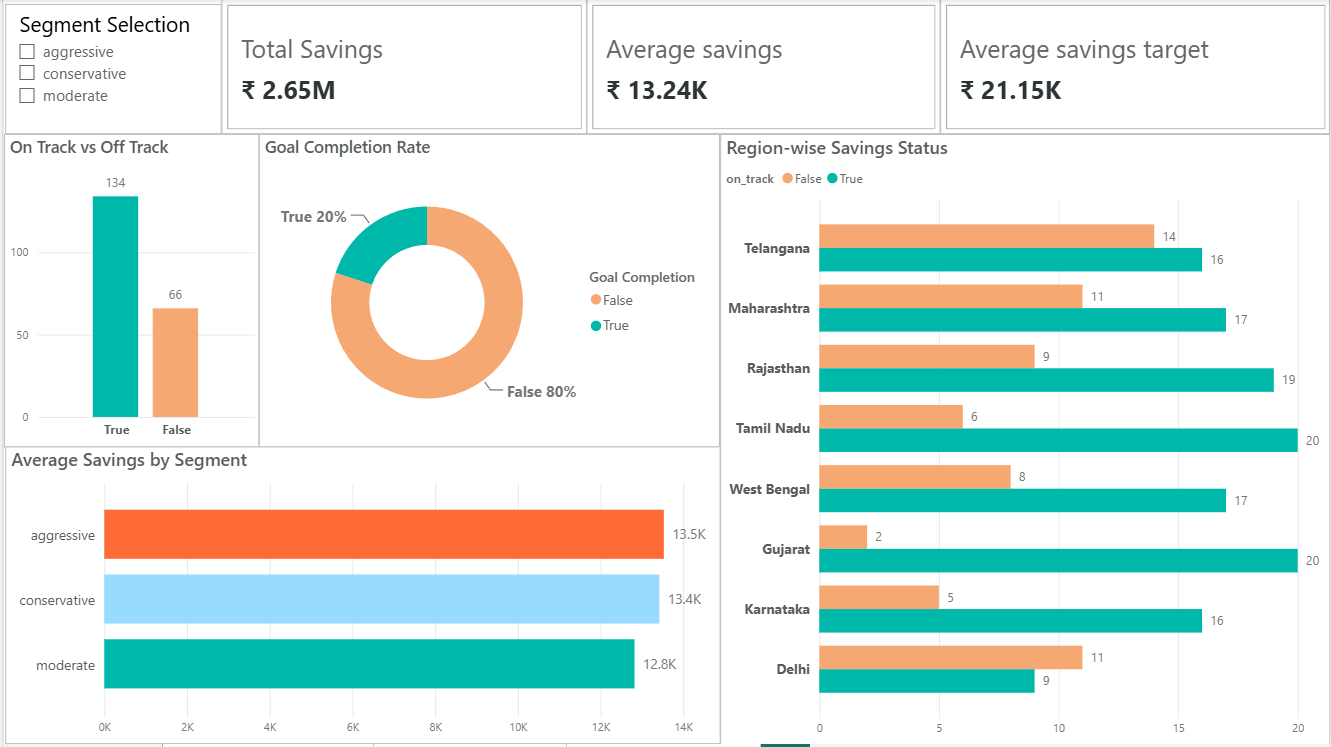

Layout of this report page (visuals, bound fields, positions):
{"tool":"powerbi","page":{"name":"Savings performance","canvas":[1280,720],"ordinal":2},"visuals":[{"type":"donutChart","title":"Goal Completion Rate","fields":{"Category":["Goals.completed"],"Y":["CountNonNull(Goals.customer_id)"]},"box":[246.2,130,445,302.5],"z":0},{"type":"clusteredColumnChart","title":"On Track vs Off Track","fields":{"Category":["Goals.on_track"],"Y":["CountNonNull(Goals.customer_id)"]},"box":[0,130,246.2,302.5],"z":1000},{"type":"cardVisual","fields":{"Data":["Avg(Goals.saved_amount)"]},"box":[562.5,0,341.2,130],"z":2000},{"type":"cardVisual","fields":{"Data":["Avg(Goals.target_amount)"]},"box":[903.8,0,376.2,130],"z":3000},{"type":"cardVisual","fields":{"Data":["Sum(Goals.saved_amount)"]},"box":[210,0,352.5,130],"z":4000},{"type":"clusteredBarChart","title":"Average Savings by Segment","fields":{"Category":["Goals.segment"],"Y":["Avg(Goals.saved_amount)"]},"box":[1.2,432.5,690,287.5],"z":5000},{"type":"clusteredBarChart","title":"Region-wise Savings Status","fields":{"Category":["Goals.region"],"Y":["CountNonNull(Goals.customer_id)"],"Series":["Goals.on_track"]},"box":[691.2,130,588.8,590],"z":6000},{"type":"slicer","fields":{"Values":["Goals.segment"]},"box":[10,5,200,125],"z":7000}]}

Visuals, with their boxes in screenshot pixels (x1, y1, x2, y2), scaled from the page's 1280x720 canvas onto the 1331x747 screenshot:
"Goal Completion Rate" donutChart: 256 135 719 449
"On Track vs Off Track" clusteredColumnChart: 0 135 256 449
cardVisual - Avg(Goals.saved_amount): 585 0 940 135
cardVisual - Avg(Goals.target_amount): 940 0 1330 135
cardVisual - Sum(Goals.saved_amount): 218 0 585 135
"Average Savings by Segment" clusteredBarChart: 1 449 719 746
"Region-wise Savings Status" clusteredBarChart: 719 135 1330 746
slicer - Goals.segment: 10 5 218 135
